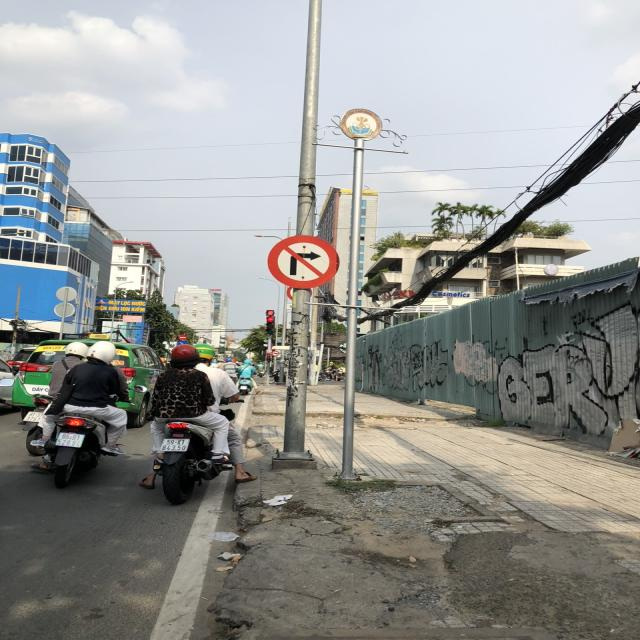Bien bao cam re phai: (260, 230, 346, 293)
